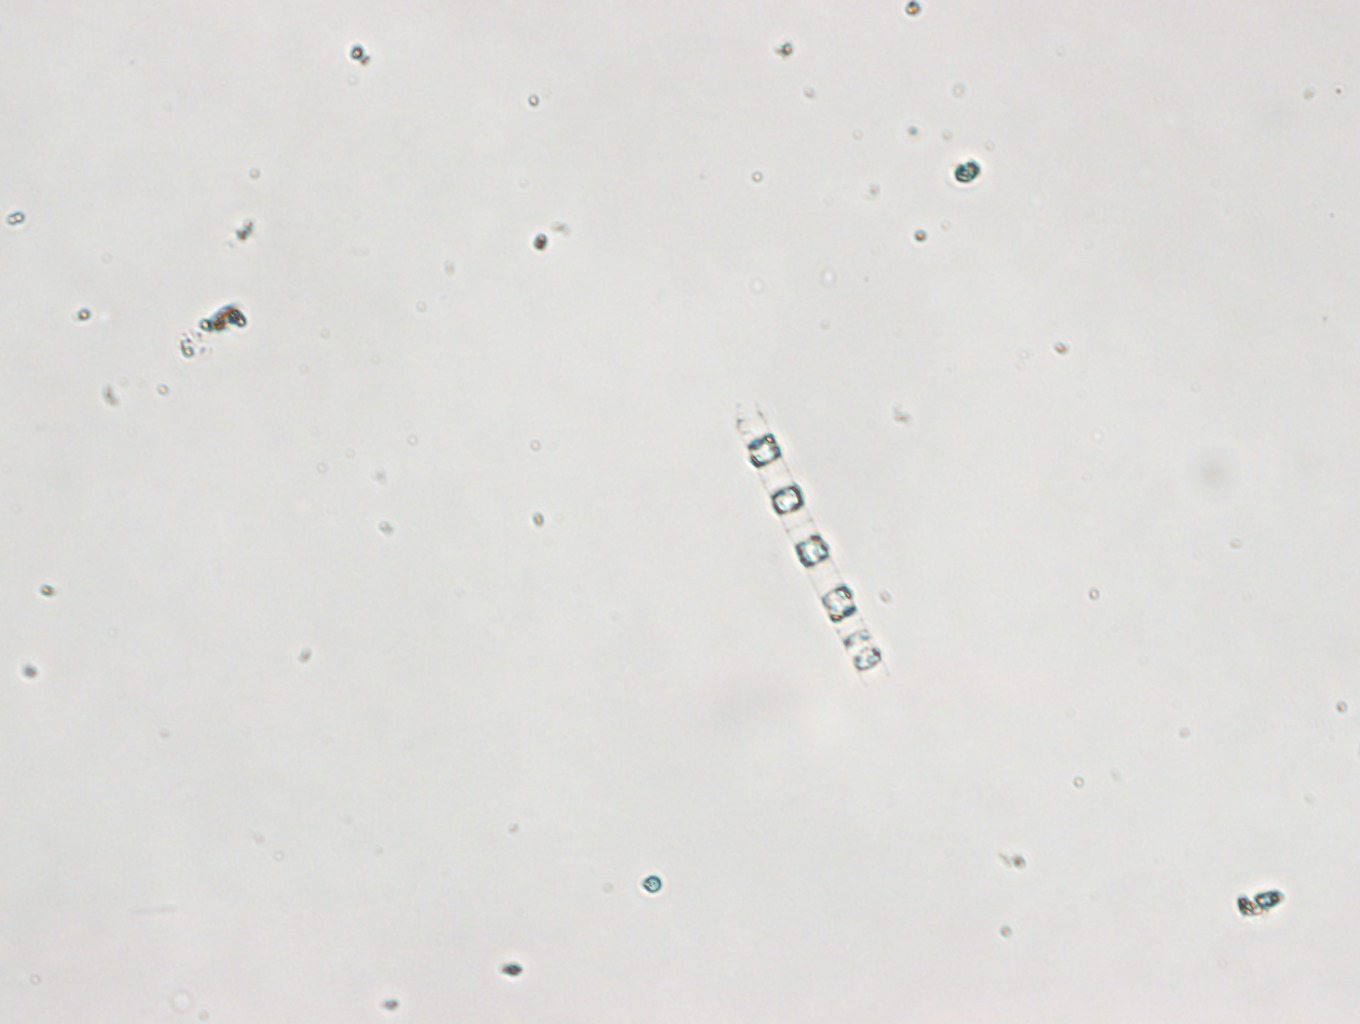skeletonema: (729, 394, 889, 689)
